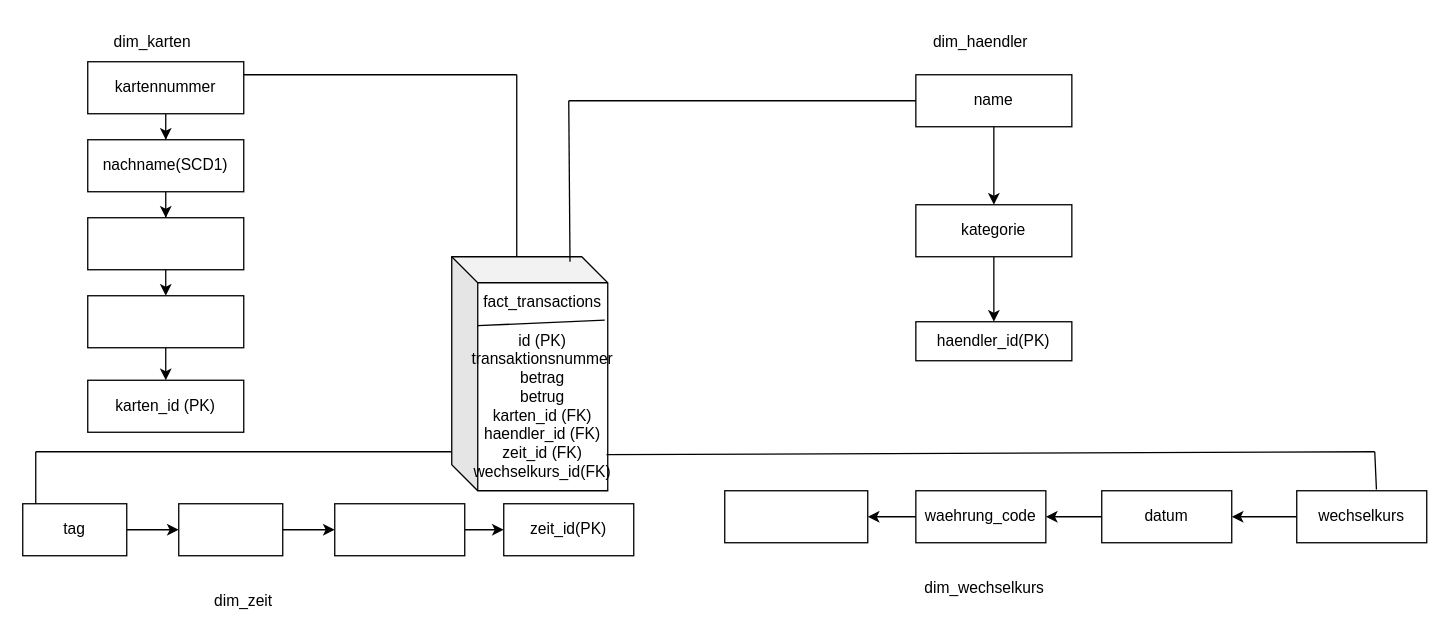
This 1450x642 diagram has some shape labels left out. The shapes that lost their labels are listed below. From the top down, each one's centre as x and y in pixels, then its label:
At [165,243]: "vorname(SCD1)".
At [165,321]: "kunden_id(SCD1)".
At [230,529]: "monat".
At [399,529]: "jahr".
At [795,516]: "wechselkurs_id(PK)".
